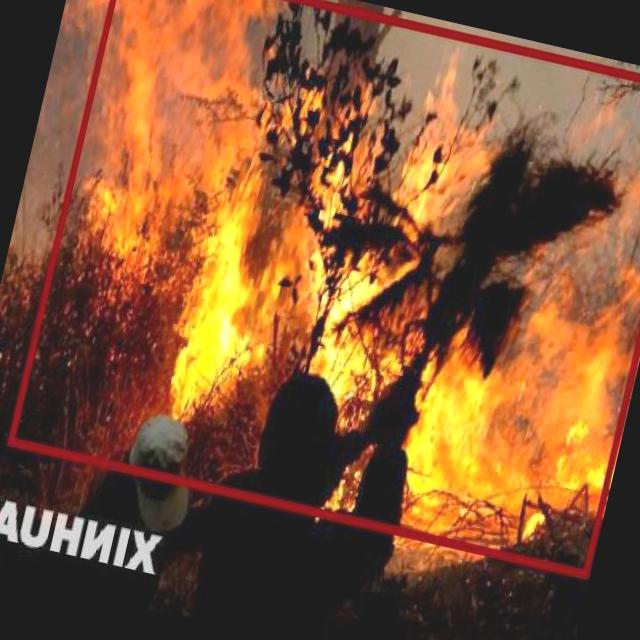fire: (8, 0, 640, 576)
